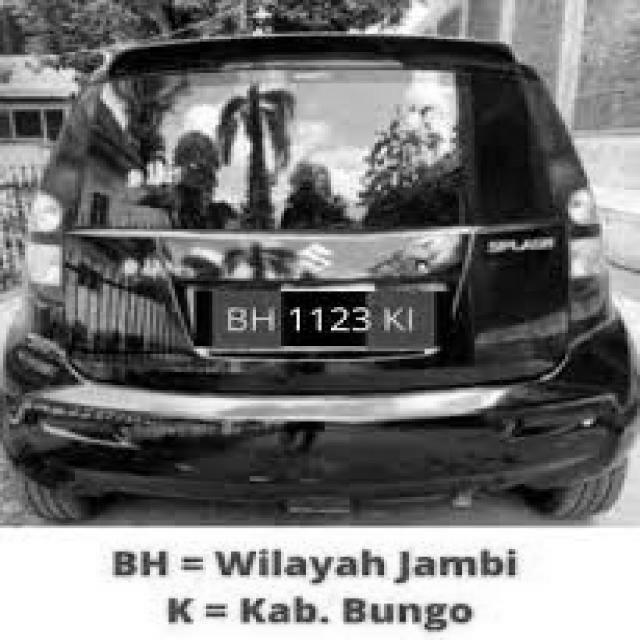1: (308, 300, 330, 344), (286, 300, 310, 340)
2: (328, 300, 348, 344)
3: (348, 302, 372, 343)
B: (226, 304, 248, 332)
H: (250, 304, 278, 332)
I: (403, 310, 419, 336)
K: (380, 300, 404, 336)
